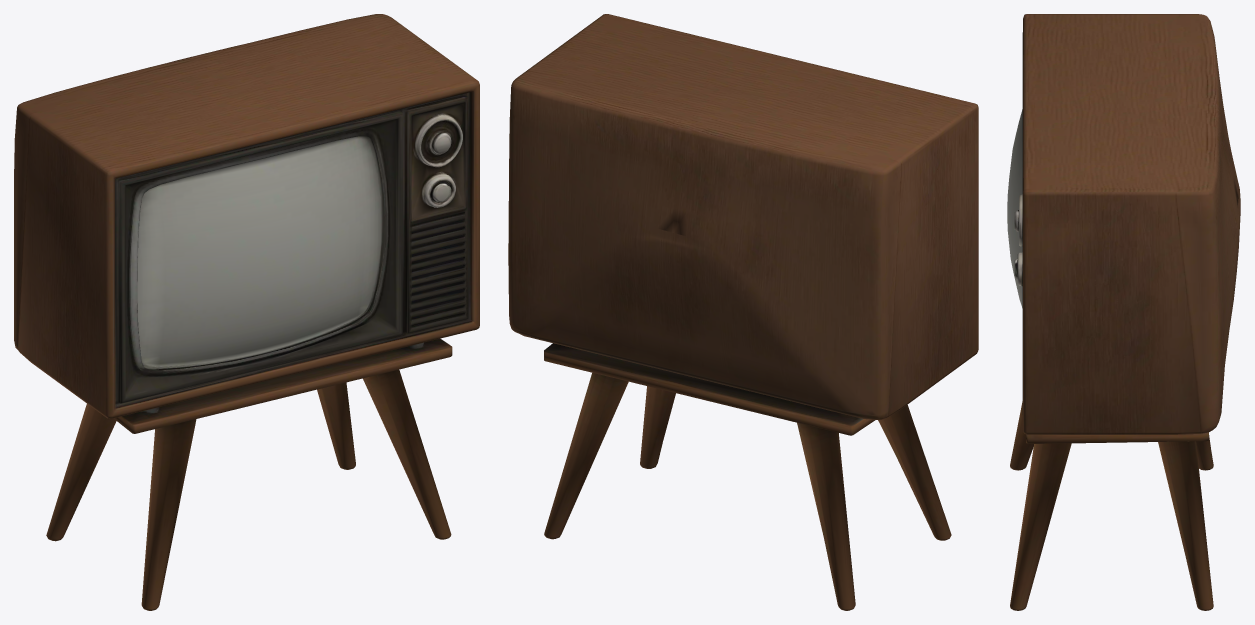
Rendered from crt_television_realistic_style_fb8c8f64_v2.glb.
3 views of the same model, side by side, from view 1: azimuth 30°, elevation 25°; view 2: azimuth 150°, elevation 25°; view 3: azimuth 270°, elevation 25° (orthographic). The views are drawn at different scales.
Parts seen in each view (by area): view 1: mesh_input; view 2: mesh_input; view 3: mesh_input.
Part boxes in pixels (<box>): mesh_input: <box>14,14,479,610</box>; mesh_input: <box>508,14,978,610</box>; mesh_input: <box>1007,14,1240,610</box>.
Size of the model in its own units: 1.67 by 1.9 by 0.92.
Materials: 1 (1 with a texture image).
